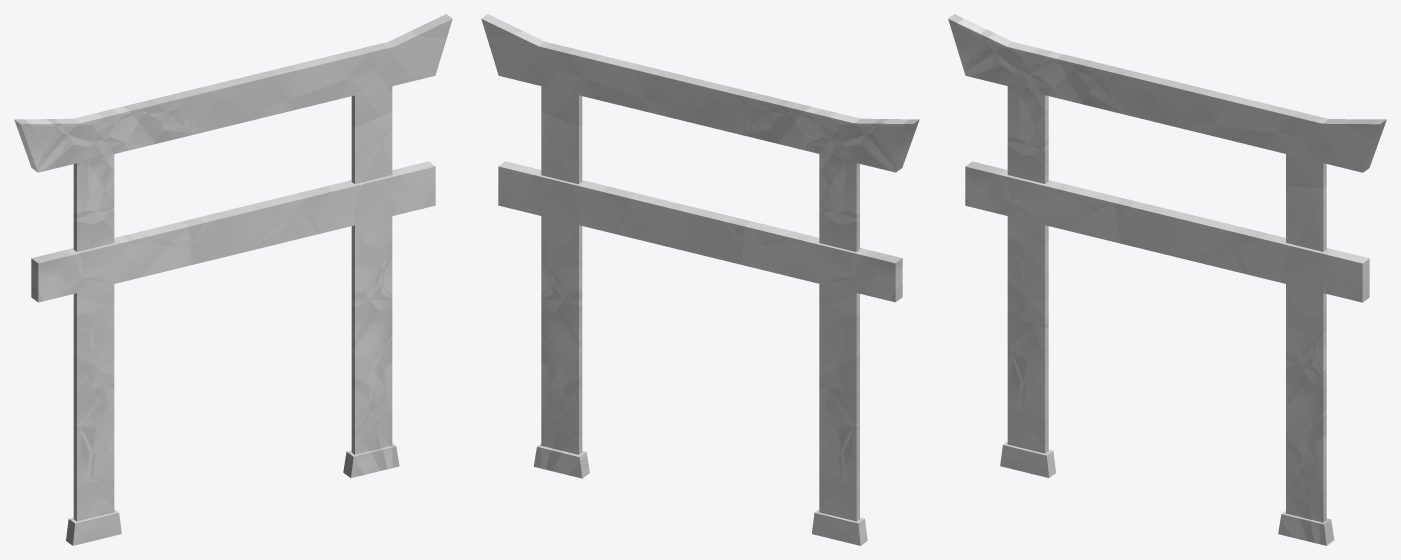
Rendered from checkpoint.fbx.
3 renders of one model, left to right at view 1: azimuth 30°, elevation 25°; view 2: azimuth 150°, elevation 25°; view 3: azimuth 330°, elevation 25°, orthographic.
Parts seen in each view (by area): view 1: Cube.003; view 2: Cube.003; view 3: Cube.003.
Part boxes in pixels (<box>): Cube.003: <box>14,14,452,545</box>; Cube.003: <box>481,14,919,545</box>; Cube.003: <box>948,14,1386,545</box>.
Bounding box in the file's own units: 400 × 384 × 12.43.
Materials: 1 (1 with a texture image).
